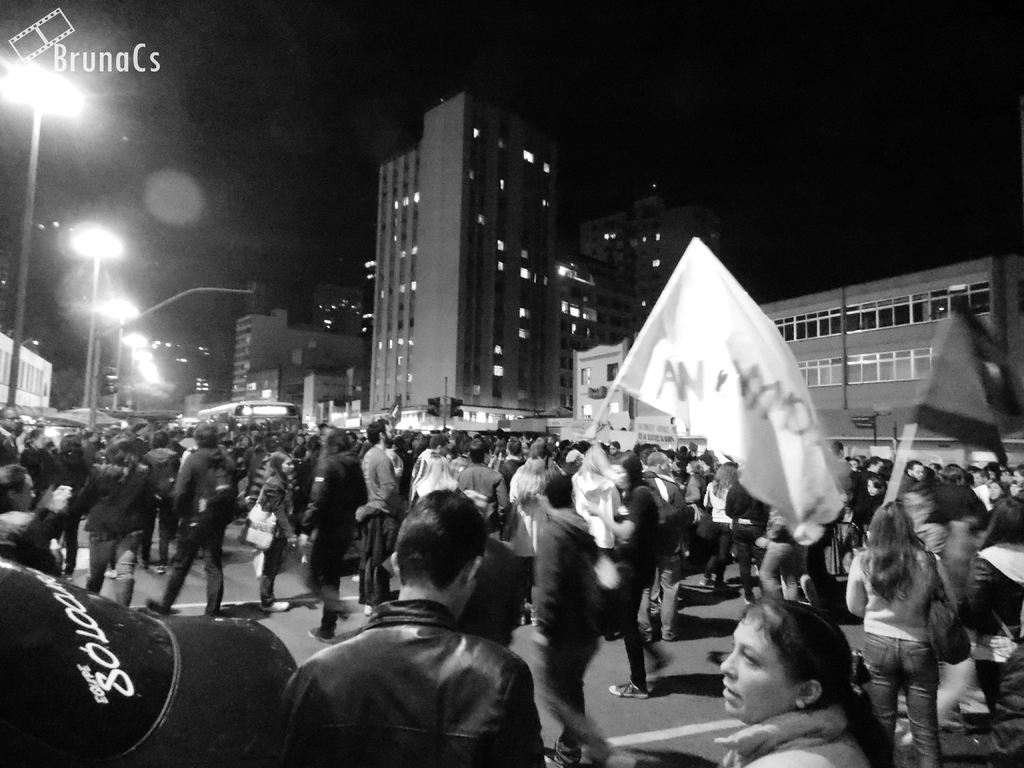Footwear: (607, 676, 652, 701), (144, 598, 171, 620), (306, 626, 335, 646), (801, 576, 819, 606), (259, 601, 291, 613), (207, 606, 236, 618), (361, 602, 374, 620), (104, 566, 118, 582), (152, 561, 167, 575), (697, 577, 710, 590), (663, 631, 678, 641), (642, 634, 652, 646), (351, 573, 361, 584)
